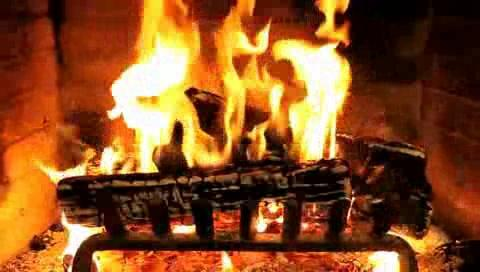fire: (122, 8, 351, 154)
